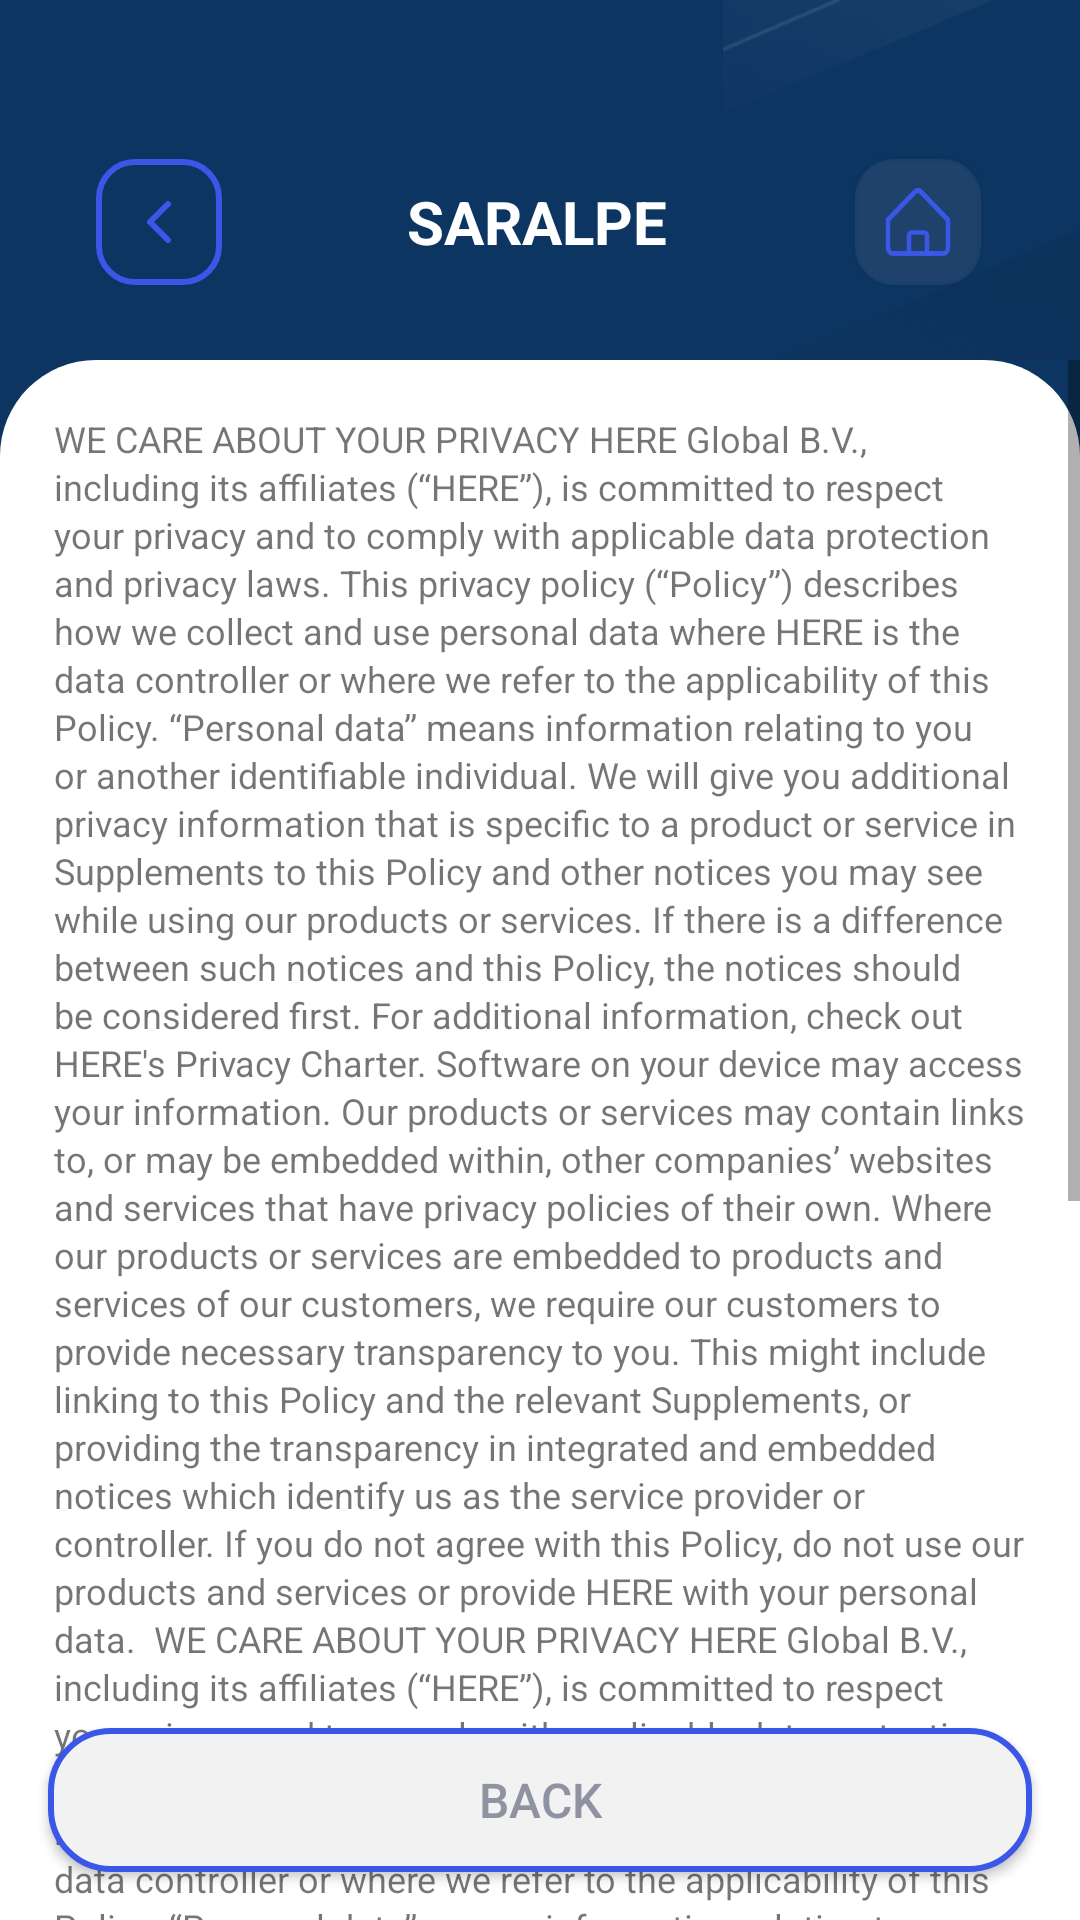

Named icons in this screenshot (1080px×1920px) and their centers, (x=x, y=y):
back: (x=159, y=222)
home: (x=918, y=222)
